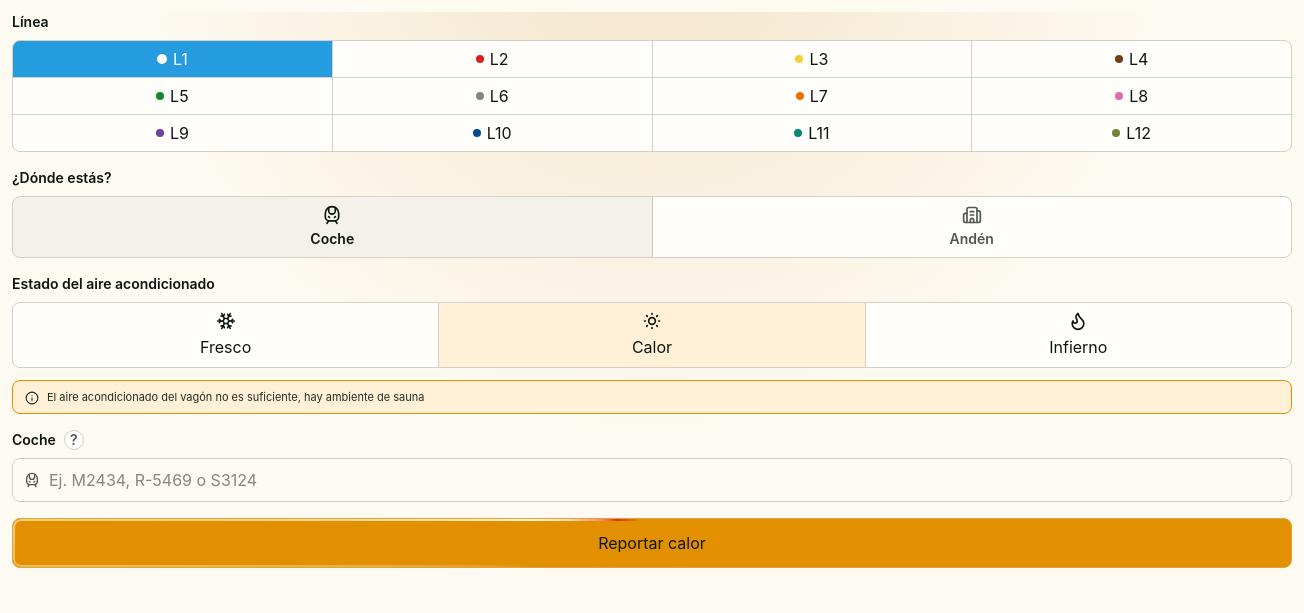
Test case: report controls › disables report submission for invalid car codes
This screenshot has width=1304, height=613.
Type "Z1234" into the field with placeholder "Ej. M2434, R-5469 o S3124" at (652, 480), box [12,458,1292,502]
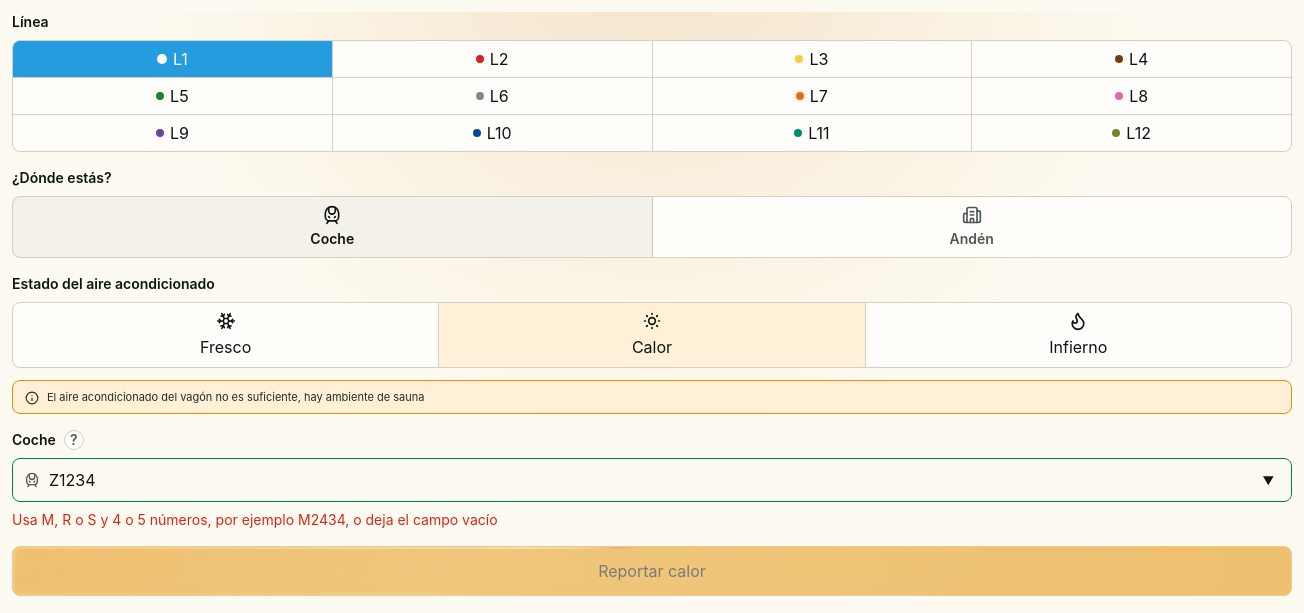
Expected: the text "Usa M, R o S" is shown, [12,511,498,528]
Expected: the button with test id "submit-report" is disabled, [12,546,1292,596]
